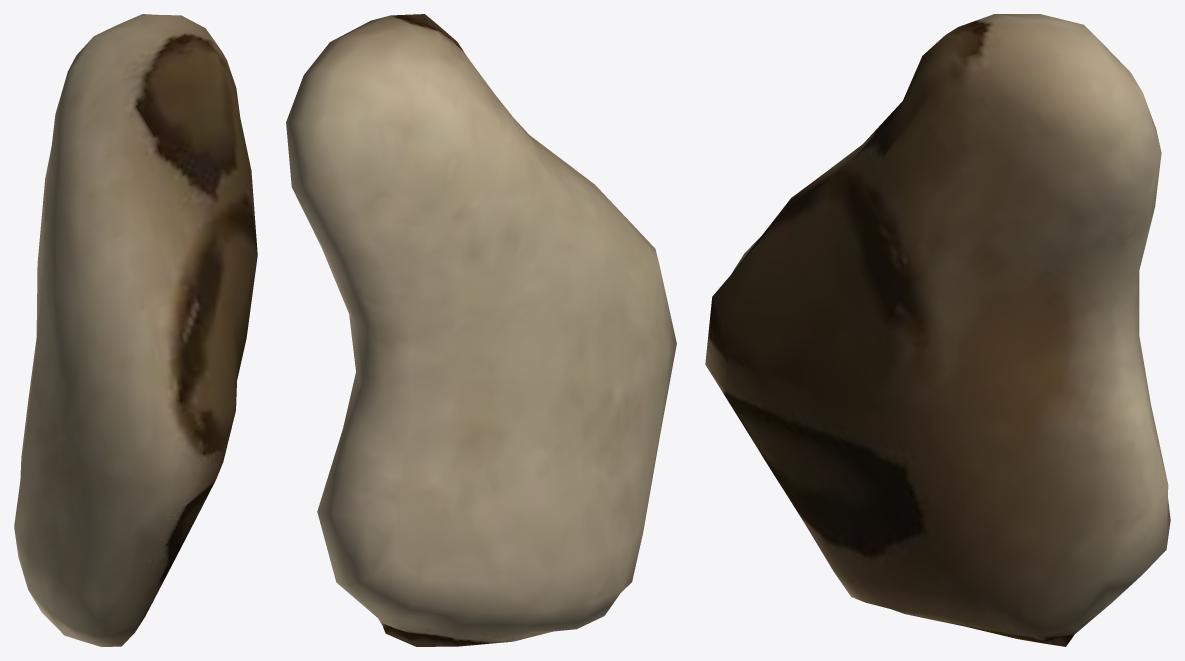
File: Tarsal_I.glb
3 renders of one model, left to right at view 1: azimuth 30°, elevation 25°; view 2: azimuth 150°, elevation 25°; view 3: azimuth 270°, elevation 25°, orthographic. The views are drawn at different scales.
Visible parts, largest first — view 1: Tarsal_I_Left1:Group444; view 2: Tarsal_I_Left1:Group444; view 3: Tarsal_I_Left1:Group444.
Part boxes in pixels (bbox=[...]): Tarsal_I_Left1:Group444: bbox=[14, 14, 257, 646]; Tarsal_I_Left1:Group444: bbox=[286, 14, 676, 646]; Tarsal_I_Left1:Group444: bbox=[705, 14, 1170, 646].
Bounding box in the file's own units: 5.35 × 12.08 × 7.95.
1 material, 1 textured.
